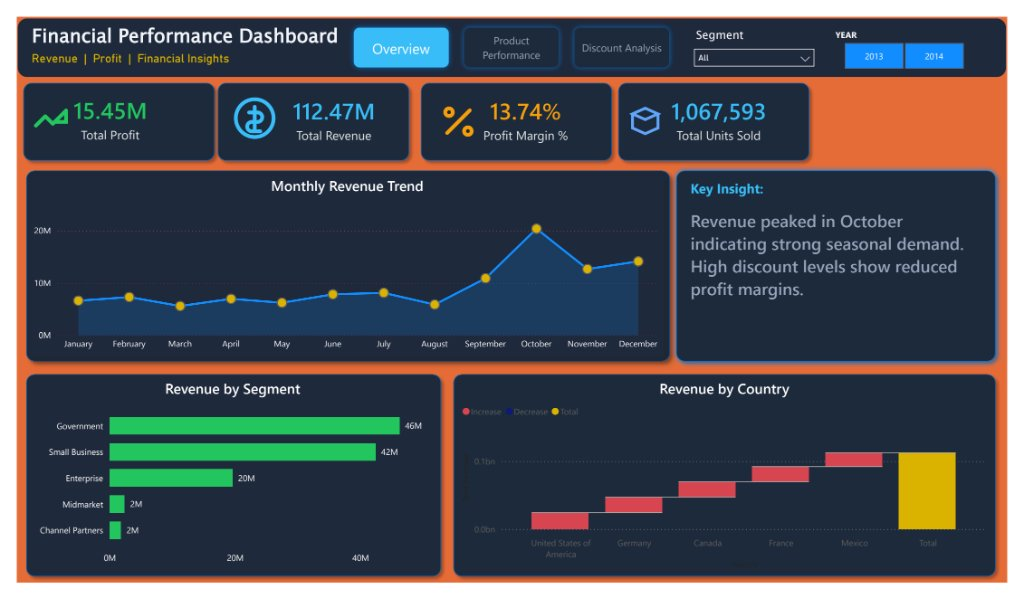

The dashboard page shown, as its layout file describes it:
{"tool":"powerbi","page":{"name":"Overview","canvas":[1400,800],"ordinal":0},"visuals":[{"type":"shape","box":[607.9,495.6,784,304],"z":1000},{"type":"shape","box":[3.7,495.6,604.2,304.4],"z":2000},{"type":"shape","box":[3.7,207.9,928,288],"z":3000},{"type":"shape","box":[0.9,1.9,1397.5,82.8],"z":4000},{"type":"textbox","box":[15.8,1.9,482.6,78],"z":5000},{"type":"shape","box":[0,84.5,288,128],"z":6000},{"type":"shape","box":[840.8,83.5,288,128],"z":7000},{"type":"shape","box":[562.4,84.5,288,128],"z":8000},{"type":"shape","box":[274.7,84.5,288,128],"z":9000},{"type":"cardVisual","fields":{"Data":["financial_dashboard_view.Total Revenue"]},"box":[320.2,95.6,256,96],"z":10000},{"type":"cardVisual","fields":{"Data":["financial_dashboard_view.Total Profit"]},"box":[3.7,94.7,256,96],"z":11000},{"type":"cardVisual","fields":{"Data":["financial_dashboard_view.Profit Margin %"]},"box":[591.2,100.2,256,96],"z":12000},{"type":"cardVisual","fields":{"Data":["financial_dashboard_view.Total Units Sold"]},"box":[864,95.6,256,96],"z":13000},{"type":"lineChart","title":"Monthly Revenue Trend","fields":{"Category":["financial_dashboard_view.month_name"],"Y":["financial_dashboard_view.Total Revenue"]},"box":[19.5,223.7,896,256],"z":14000},{"type":"clusteredBarChart","title":"Revenue by Segment","fields":{"Category":["financial_dashboard_view.segment"],"Y":["financial_dashboard_view.Total Revenue"]},"box":[19.5,511.4,571.7,271.9],"z":15000},{"type":"slicer","fields":{"Values":["financial_dashboard_view.year"]},"box":[1144.3,12.1,218.1,67.7],"z":16000},{"type":"waterfallChart","title":"Revenue by Country","fields":{"Category":["financial_dashboard_view.country"],"Y":["financial_dashboard_view.Total Revenue"]},"box":[623.7,511.4,752.1,272.3],"z":17000},{"type":"pageNavigator","box":[467.7,7.4,464,71.5],"z":18000},{"type":"slicer","fields":{"Values":["financial_dashboard_view.segment"]},"box":[946.6,8.4,190.3,71.5],"z":19000},{"type":"shape","box":[923.4,207.9,468.7,287.7],"z":20000},{"type":"textbox","box":[946.6,223.7,415.8,201.4],"z":21000},{"type":"image","box":[304.4,111.4,64,64],"z":22000},{"type":"image","box":[15.8,111.4,64,64],"z":23000},{"type":"image","box":[592.1,116,64,64],"z":24000},{"type":"image","box":[864,99.3,48,96],"z":25000}]}

Visuals, with their boxes in screenshot pixels (x1, y1, x2, y2), scaled from the page's 1400x800 canvas onto the 1024x599 screenshot:
shape: (x1=445, y1=371, x2=1018, y2=598)
shape: (x1=3, y1=371, x2=445, y2=598)
shape: (x1=3, y1=156, x2=681, y2=371)
shape: (x1=1, y1=1, x2=1023, y2=63)
textbox: (x1=12, y1=1, x2=365, y2=60)
shape: (x1=0, y1=63, x2=211, y2=159)
shape: (x1=615, y1=63, x2=826, y2=158)
shape: (x1=411, y1=63, x2=622, y2=159)
shape: (x1=201, y1=63, x2=412, y2=159)
cardVisual - financial_dashboard_view.Total Revenue: (x1=234, y1=72, x2=421, y2=143)
cardVisual - financial_dashboard_view.Total Profit: (x1=3, y1=71, x2=190, y2=143)
cardVisual - financial_dashboard_view.Profit Margin %: (x1=432, y1=75, x2=620, y2=147)
cardVisual - financial_dashboard_view.Total Units Sold: (x1=632, y1=72, x2=819, y2=143)
"Monthly Revenue Trend" lineChart: (x1=14, y1=167, x2=670, y2=359)
"Revenue by Segment" clusteredBarChart: (x1=14, y1=383, x2=432, y2=586)
slicer - financial_dashboard_view.year: (x1=837, y1=9, x2=996, y2=60)
"Revenue by Country" waterfallChart: (x1=456, y1=383, x2=1006, y2=587)
pageNavigator: (x1=342, y1=6, x2=681, y2=59)
slicer - financial_dashboard_view.segment: (x1=692, y1=6, x2=832, y2=60)
shape: (x1=675, y1=156, x2=1018, y2=371)
textbox: (x1=692, y1=167, x2=996, y2=318)
image: (x1=223, y1=83, x2=269, y2=131)
image: (x1=12, y1=83, x2=58, y2=131)
image: (x1=433, y1=87, x2=480, y2=135)
image: (x1=632, y1=74, x2=667, y2=146)
